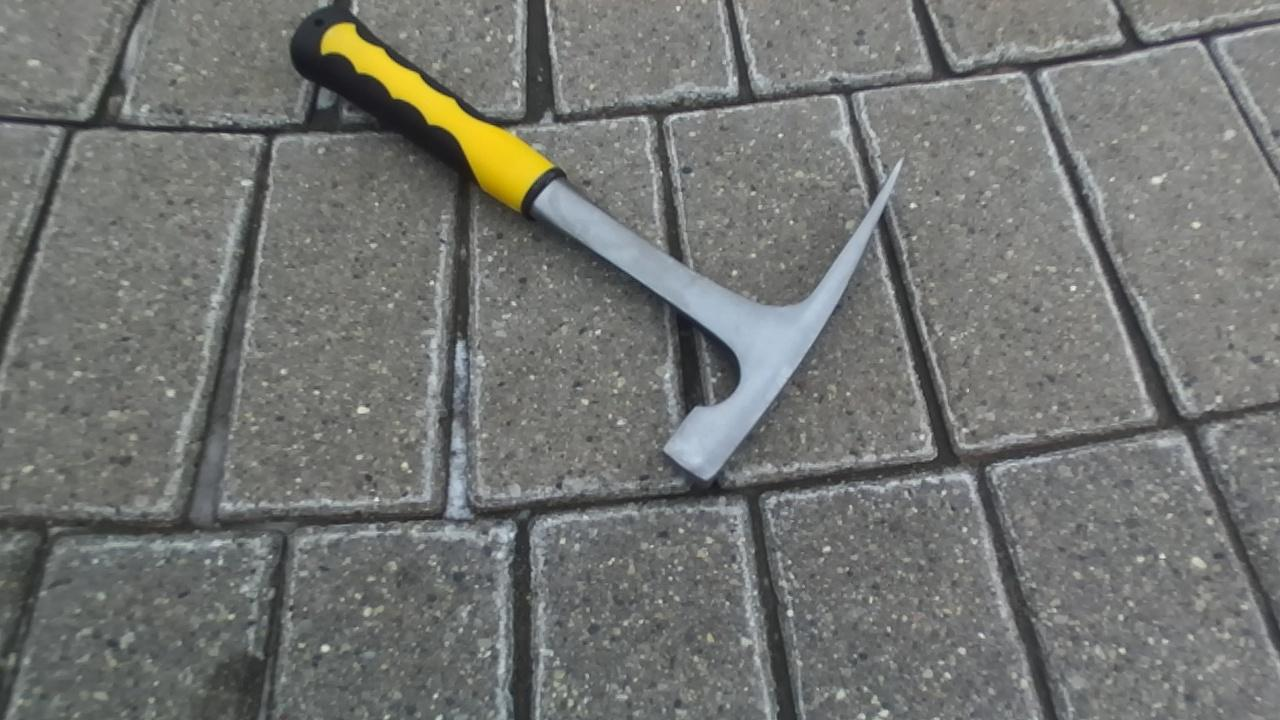pick: (291, 11, 900, 481)
